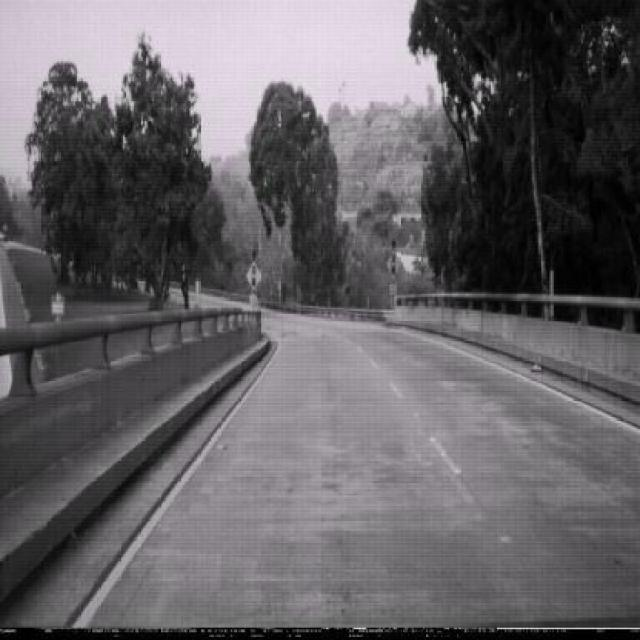signalAhead: (244, 258, 262, 290), (385, 249, 401, 280)
